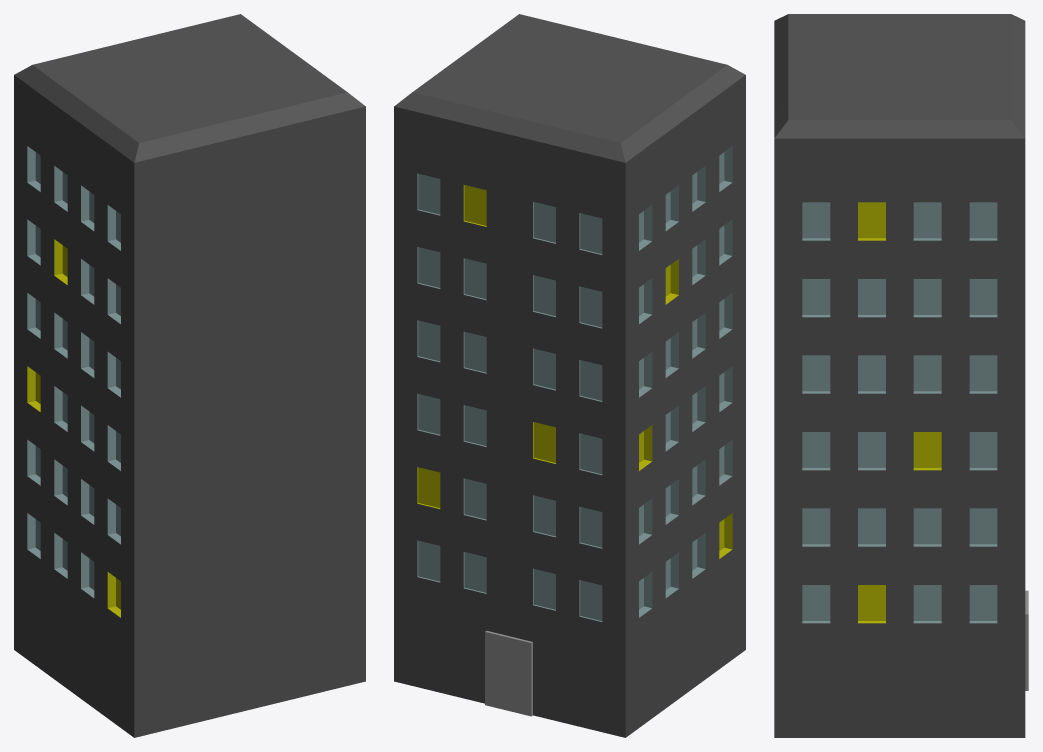
The model's file is Building 1.fbx.
The picture shows the model from 3 angles, left to right: view 1: azimuth 30°, elevation 25°; view 2: azimuth 150°, elevation 25°; view 3: azimuth 270°, elevation 25°; orthographic projection. The views are drawn at different scales.
Parts seen in each view (by area): view 1: Building_1; view 2: Building_1; view 3: Building_1.
Boxes of the visible parts, x1,y1,x2,y2 form: Building_1: (14,14,365,737); Building_1: (394,14,745,737); Building_1: (774,14,1028,737).
Size of the model in its own units: 10.11 by 24.5 by 9.22.
